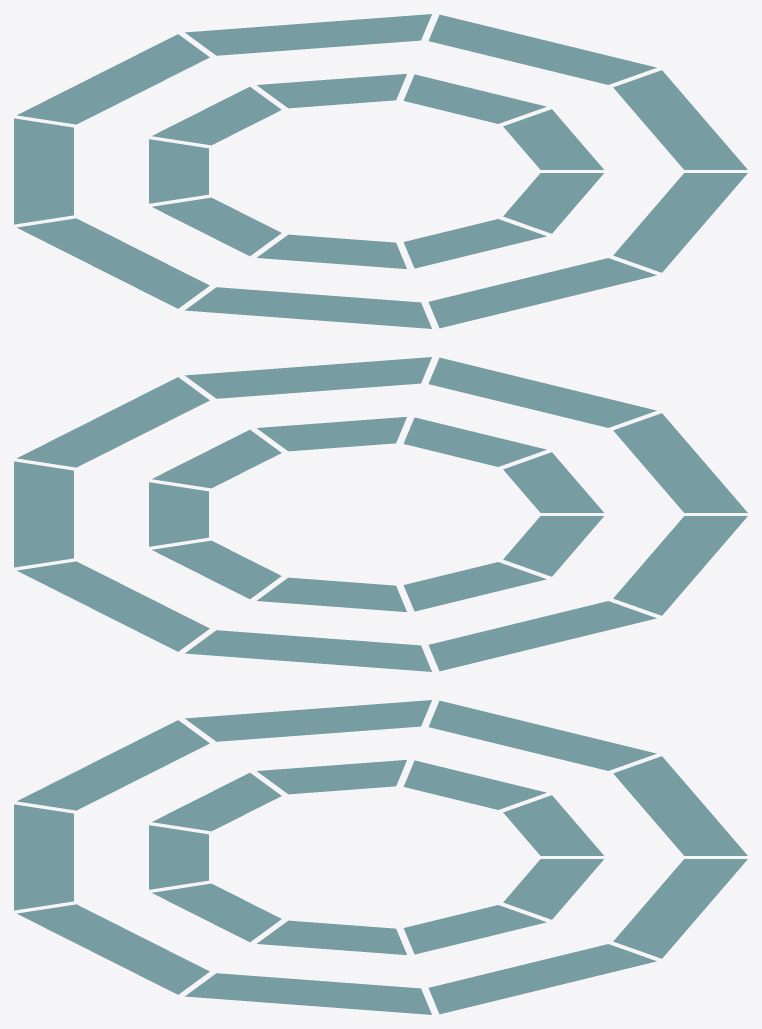
Rendered from floor_light.fbx.
3 views of the same model, one above another, from view 1: azimuth 30°, elevation 25°; view 2: azimuth 150°, elevation 25°; view 3: azimuth 270°, elevation 25° (orthographic).
Visible parts, largest first — view 1: floor_light; view 2: floor_light; view 3: floor_light.
Boxes of the visible parts, x1=… form: floor_light: x1=14, y1=14, x2=747, y2=328; floor_light: x1=14, y1=357, x2=747, y2=671; floor_light: x1=14, y1=700, x2=747, y2=1014.
Size of the model in its own units: 1945 by 3.81e-06 by 1916.
